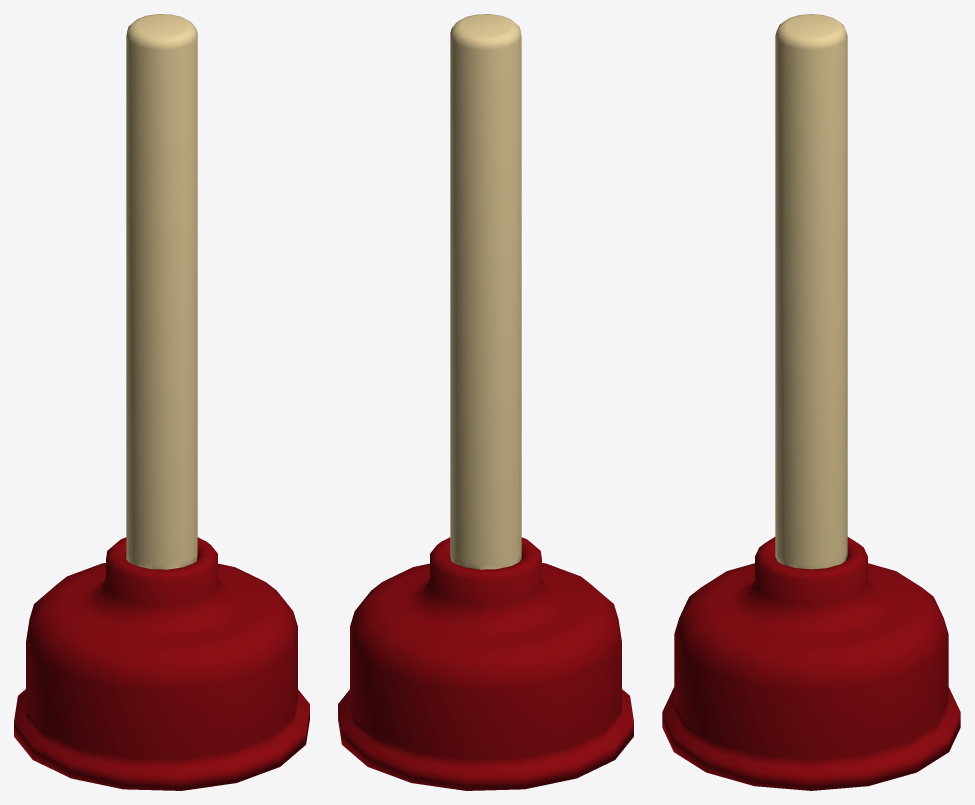
The model's file is PlungerFBX.fbx.
3 views of the same model, side by side, from view 1: azimuth 30°, elevation 25°; view 2: azimuth 150°, elevation 25°; view 3: azimuth 270°, elevation 25° (orthographic).
Parts seen in each view (by area): view 1: Plunger; view 2: Plunger; view 3: Plunger.
Part boxes in pixels (x1,y1,x2,y2): Plunger: (14, 14, 309, 790); Plunger: (338, 14, 633, 790); Plunger: (662, 14, 960, 790).
Size of the model in its own units: 0.1732 by 0.4505 by 0.1732.
